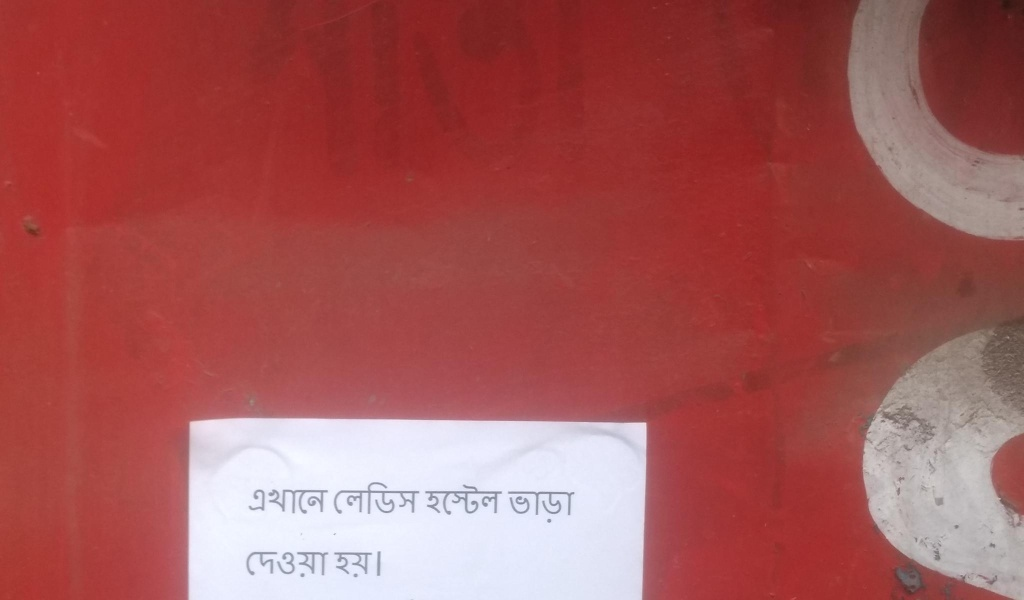text: (561, 491, 577, 524), (513, 491, 528, 524), (529, 491, 544, 524), (545, 491, 560, 524), (433, 485, 448, 517), (449, 485, 464, 517), (465, 485, 480, 517), (481, 485, 496, 517), (337, 484, 352, 515), (353, 484, 368, 515), (369, 484, 384, 515), (385, 484, 400, 515), (401, 484, 416, 515), (257, 551, 272, 581), (273, 551, 288, 581), (289, 551, 304, 581), (305, 551, 320, 581), (337, 551, 352, 580), (353, 551, 368, 580), (257, 489, 272, 516), (273, 489, 288, 516), (289, 489, 304, 516), (305, 489, 320, 516), (369, 551, 382, 580), (247, 551, 256, 581), (321, 489, 330, 516), (321, 551, 329, 581), (425, 485, 432, 517), (497, 485, 504, 517), (507, 491, 512, 524), (250, 489, 256, 516), (417, 484, 420, 515), (335, 551, 336, 580)
